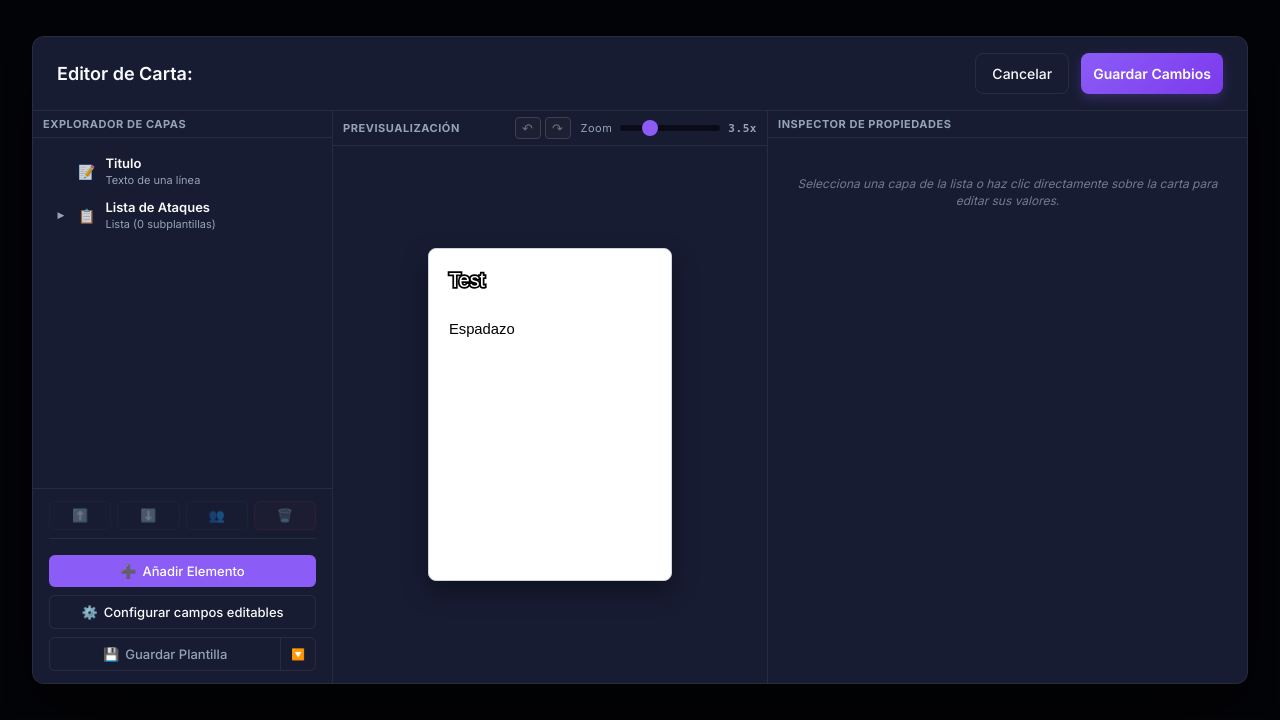
Scenario: TKT-057: Ajustes de Espacio y Solapamientos en Inspector Compacto › muestra el botón 'Registrar' compacto al seleccionar un hijo para subplantilla de lista
// Seleccionar la capa de lista
Click the element with class "hierarchy-item" that starts with "Lista de Ataques". click: coordinates (135, 215)
box: [54,199,216,231]
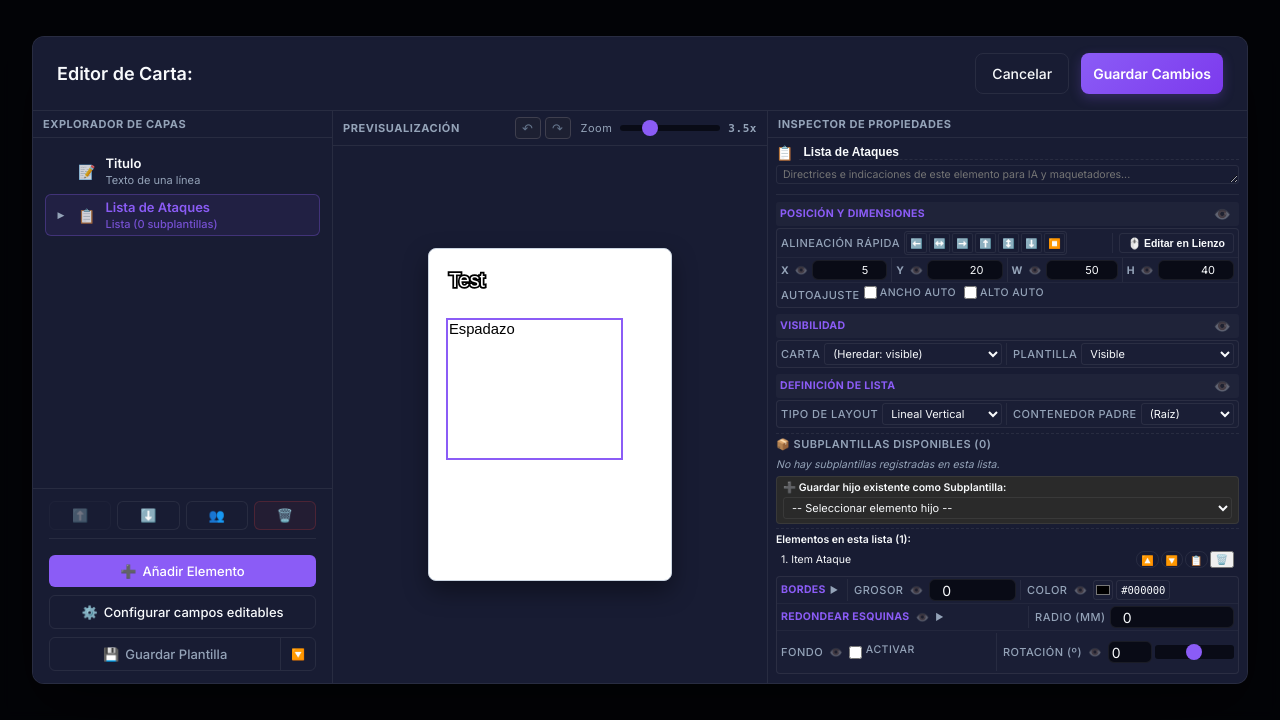
Check: the dropdown below "📦 Subplantillas Disponibles (" is shown
Select "Item Ataque (text)" in the dropdown below "📦 Subplantillas Disponibles (". click: coordinates (1008, 508)
box: [783,497,1232,519]
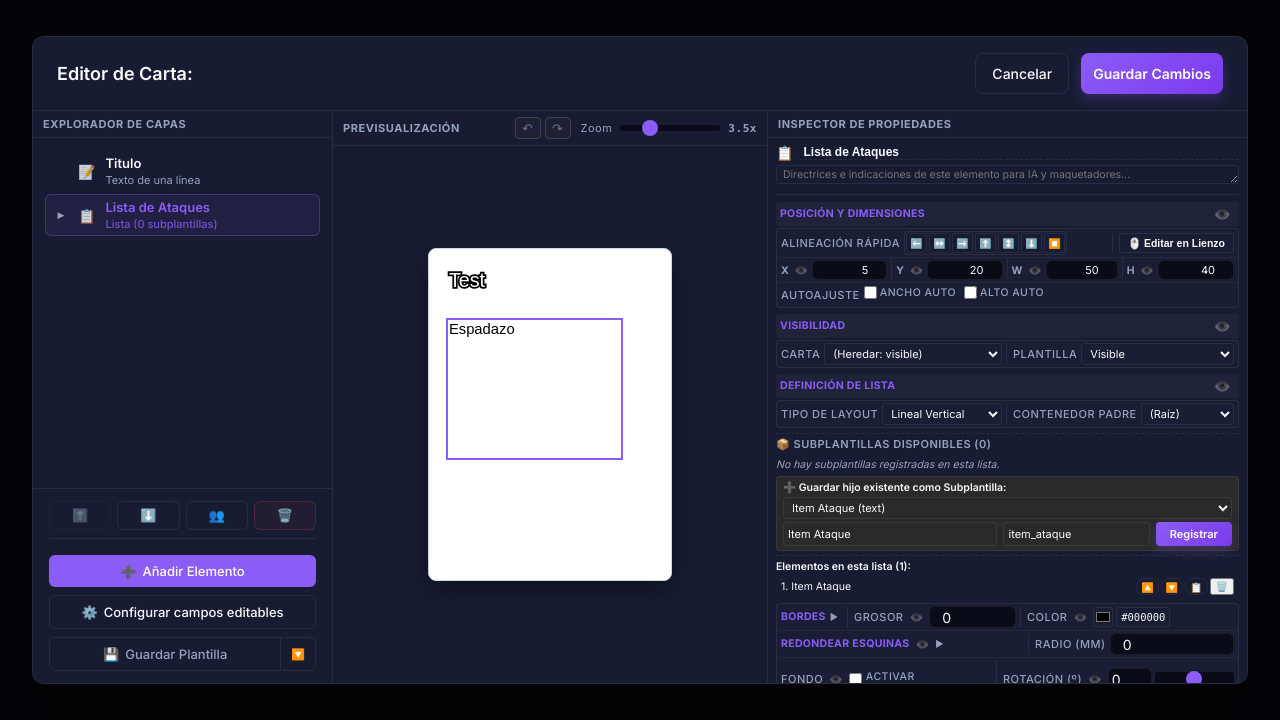
Check: the button "Registrar" is shown, box [1156,522,1232,546]
